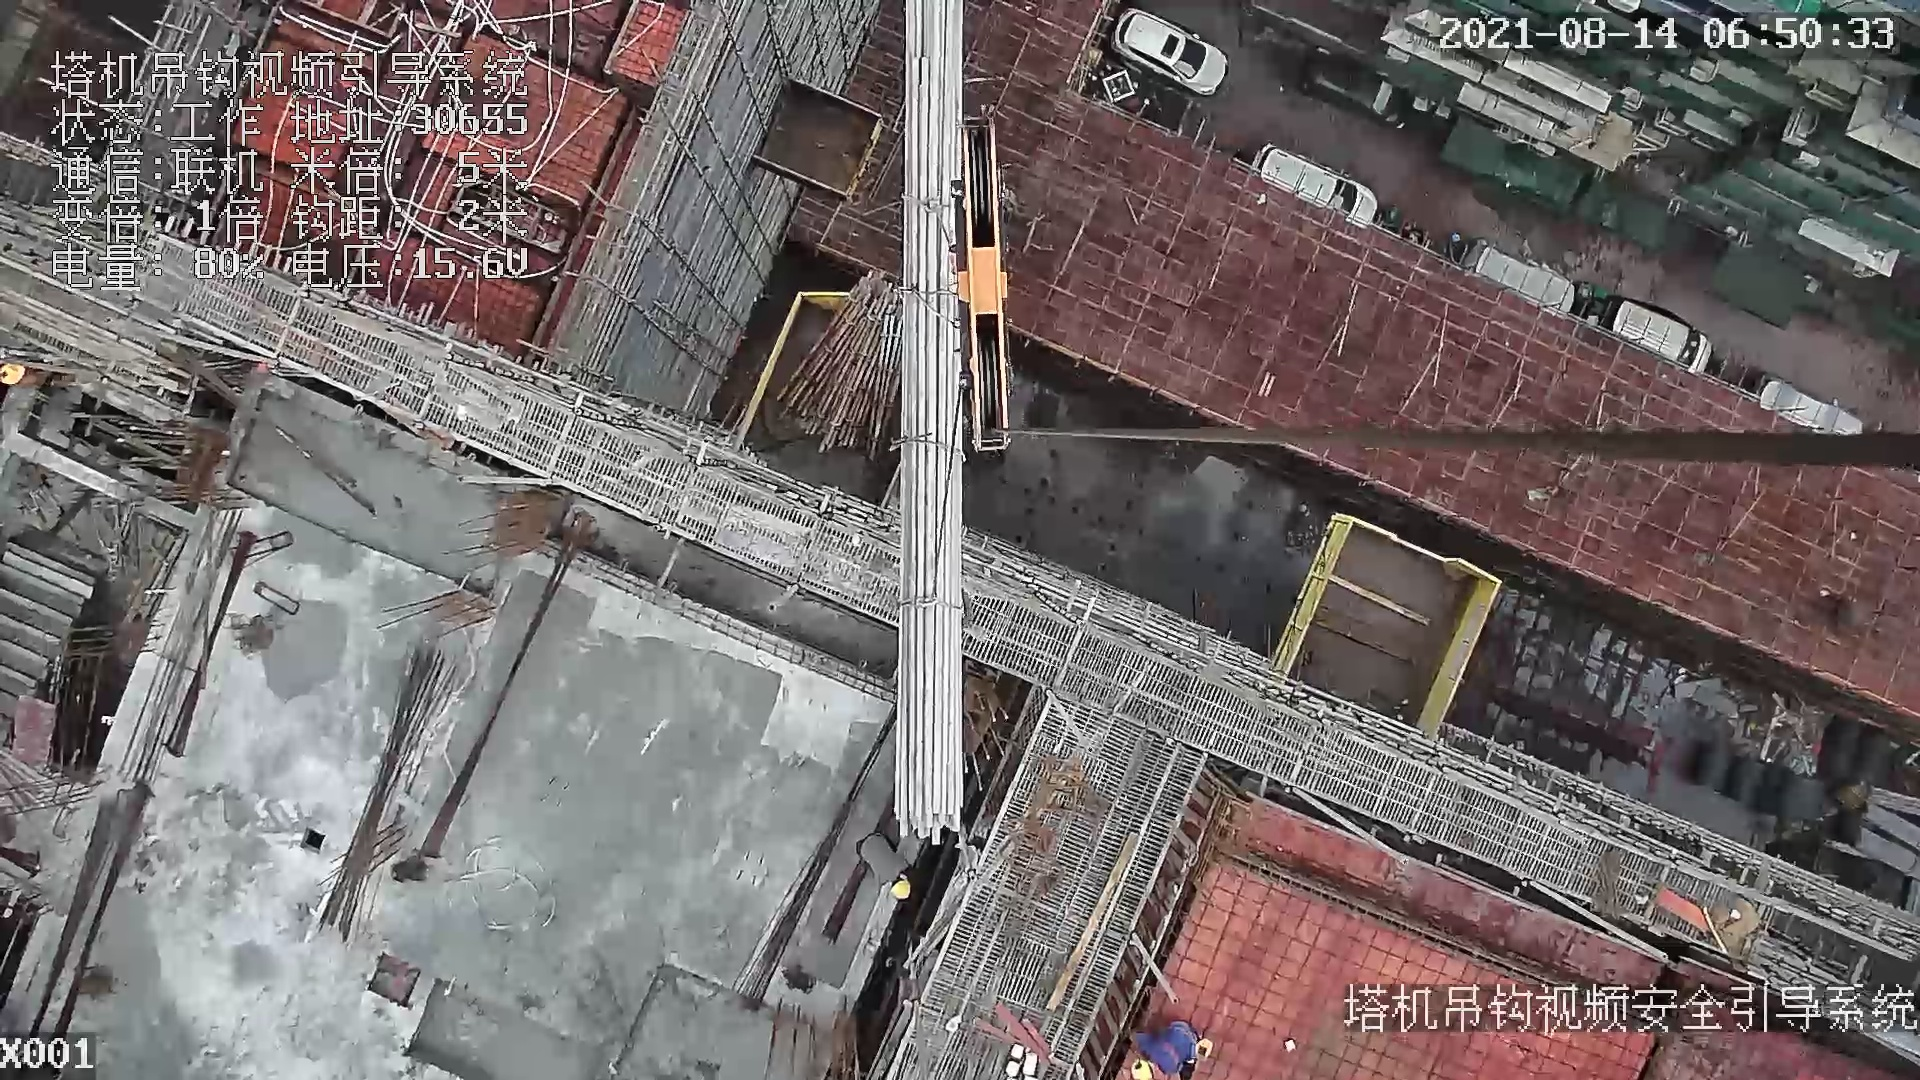helmet: (1, 358, 28, 391), (1131, 1052, 1163, 1080), (891, 876, 919, 904)
hook: (944, 118, 1015, 459)
person: (858, 822, 923, 906), (1122, 1019, 1208, 1077)
